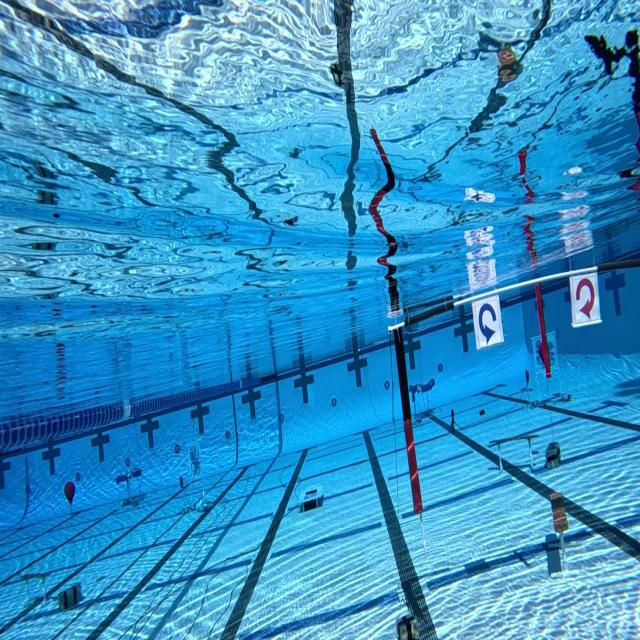blue_side: (470, 297, 504, 353)
red_side: (572, 273, 600, 330)
